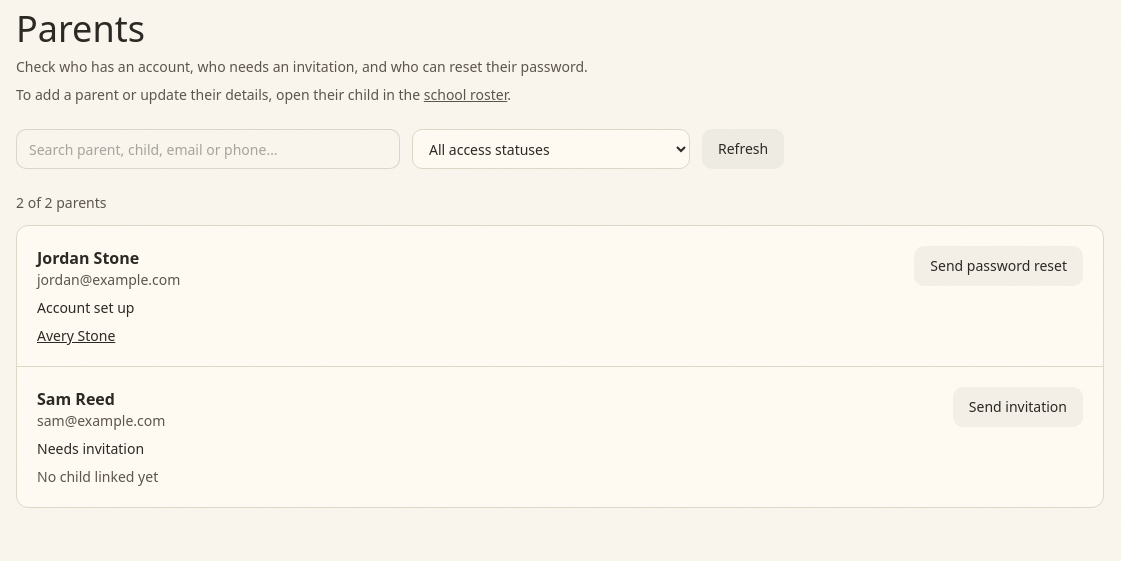
Test: shows a failed send without reporting success
Expected: the heading "Sam Reed" is shown, left=37, top=388, right=115, bottom=410
Click the button "Send invitation".
click(1018, 407)  # box left=953, top=387, right=1083, bottom=427
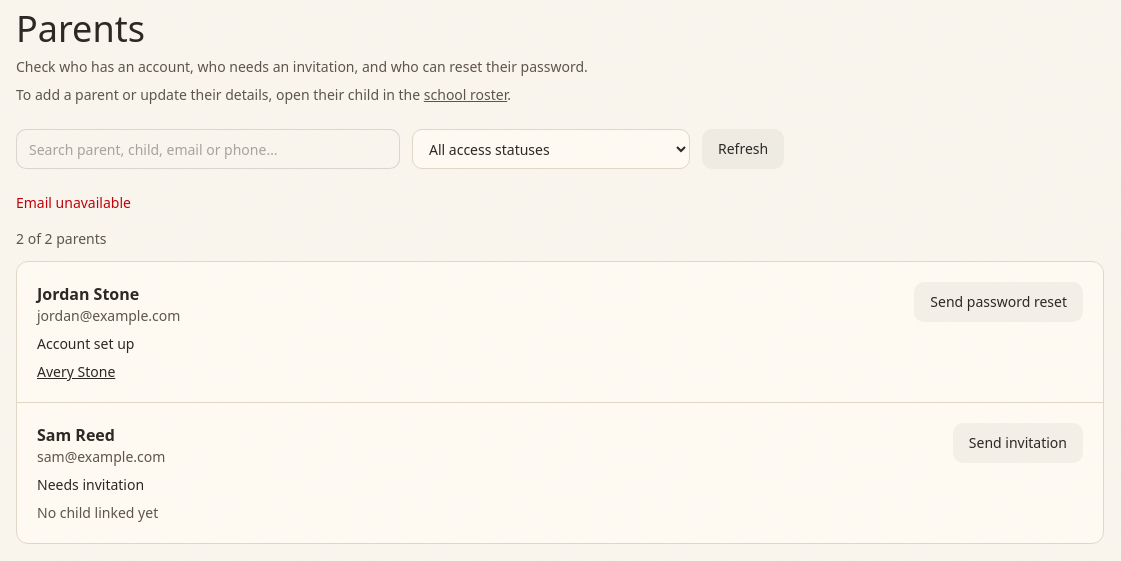
Expected: the message reads "Email unavailable", left=16, top=193, right=131, bottom=212
